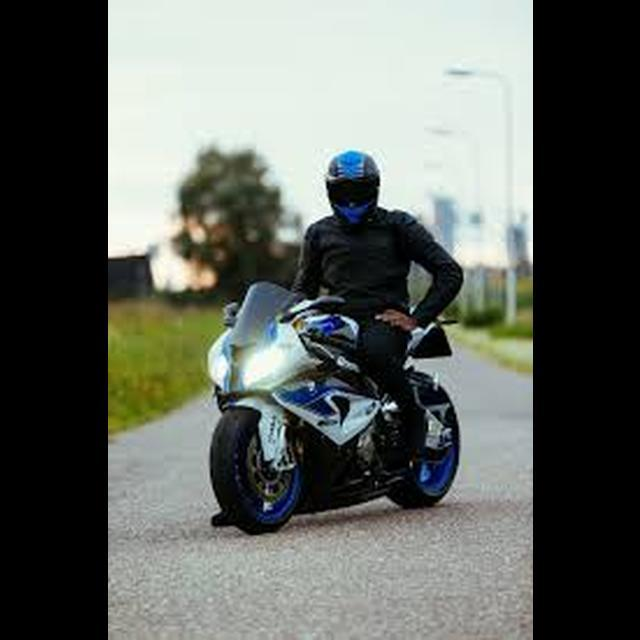motorcycle: (207, 275, 465, 539)
